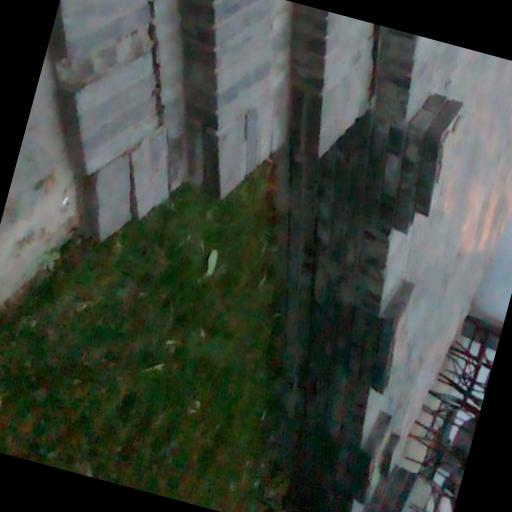stairs: (49, 0, 378, 238)
